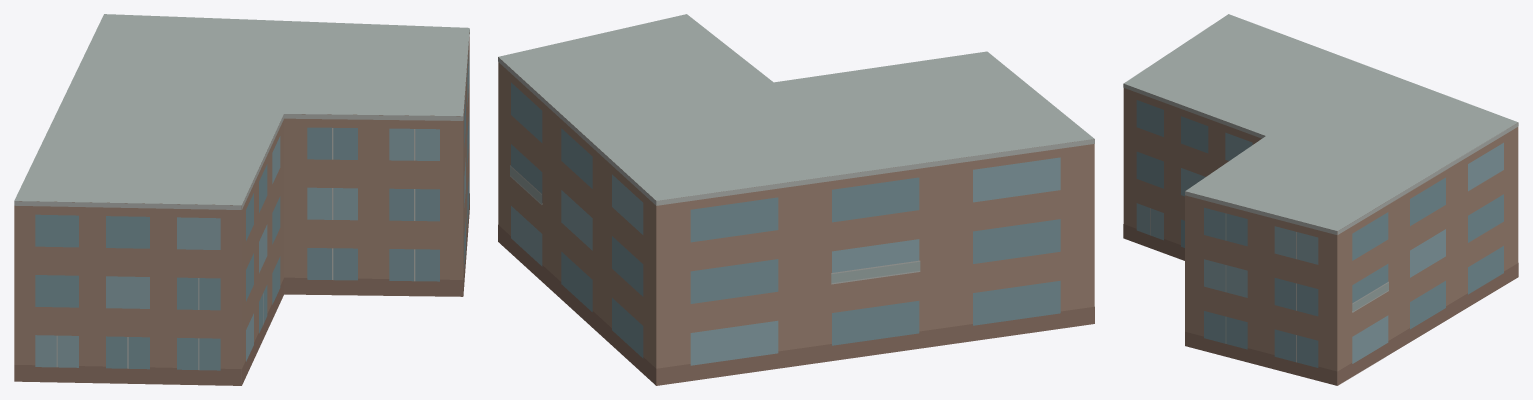
The model's file is survey-upis-32976858.glb.
The picture shows the model from 3 angles, left to right: view 1: azimuth 30°, elevation 25°; view 2: azimuth 150°, elevation 25°; view 3: azimuth 270°, elevation 25°; orthographic projection. The views are drawn at different scales.
Parts seen in each view (by area): view 1: survey-upis-32976858.tmp; view 2: survey-upis-32976858.tmp; view 3: survey-upis-32976858.tmp.
Part boxes in pixels (x1,y1,x2,y2): survey-upis-32976858.tmp: (14,14,469,385); survey-upis-32976858.tmp: (498,14,1094,385); survey-upis-32976858.tmp: (1123,14,1518,385).
Size of the model in its own units: 27.53 by 9.15 by 21.17.
